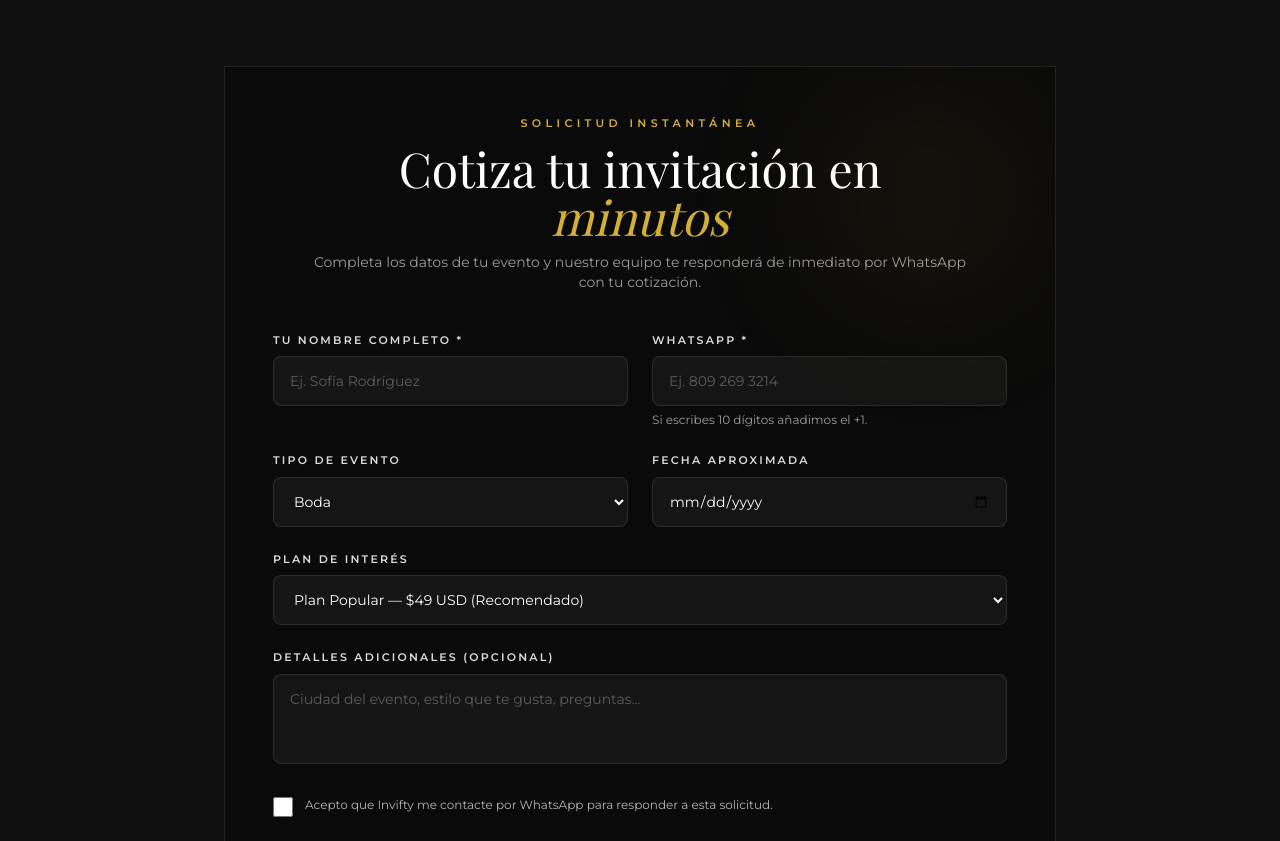
Test: formulario de captación — validación › rechaza un teléfono demasiado corto
In the field labelled "Tu nombre completo *": (450, 381) [273,356,628,406], type "Sofía Rodríguez"
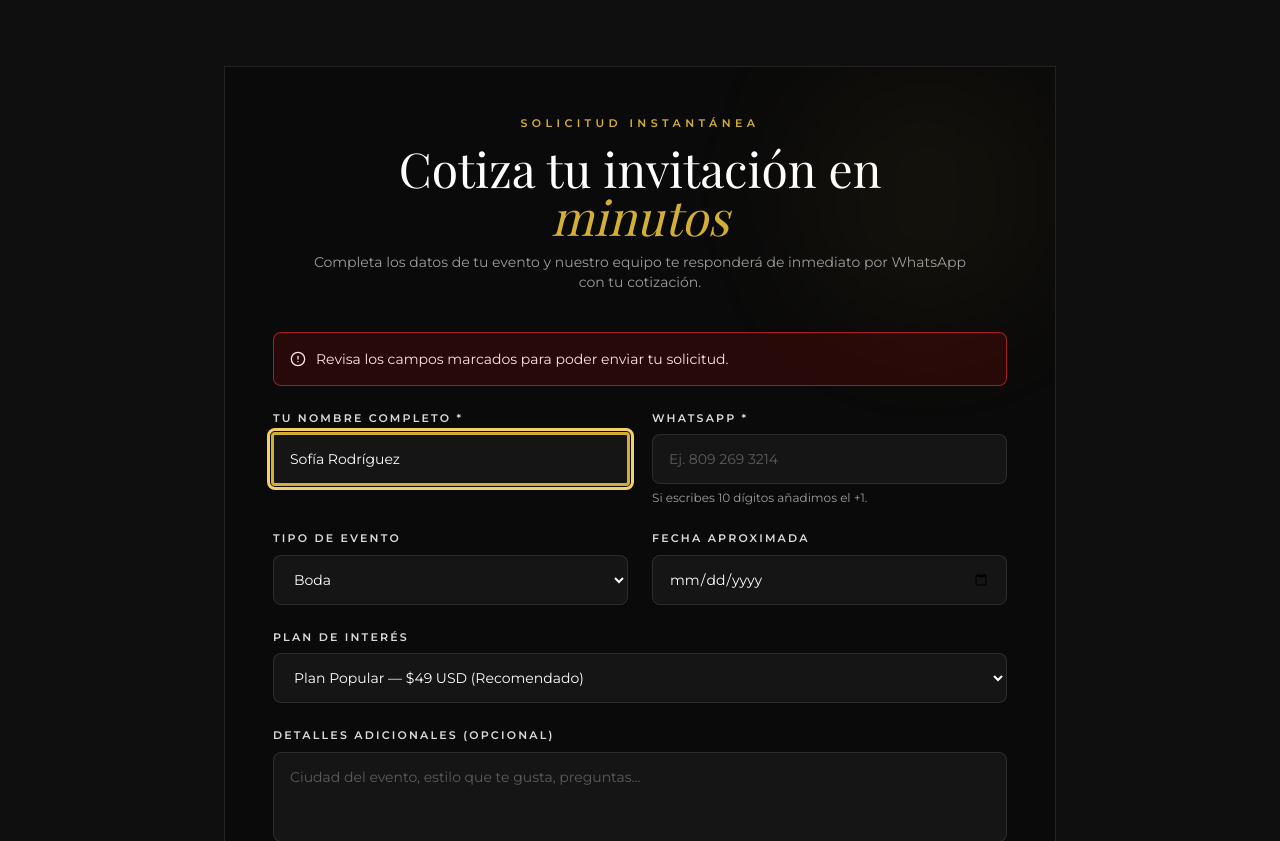
In the field labelled "WhatsApp *": (830, 459) [652,434,1007,484], type "123"
(page scrolled)
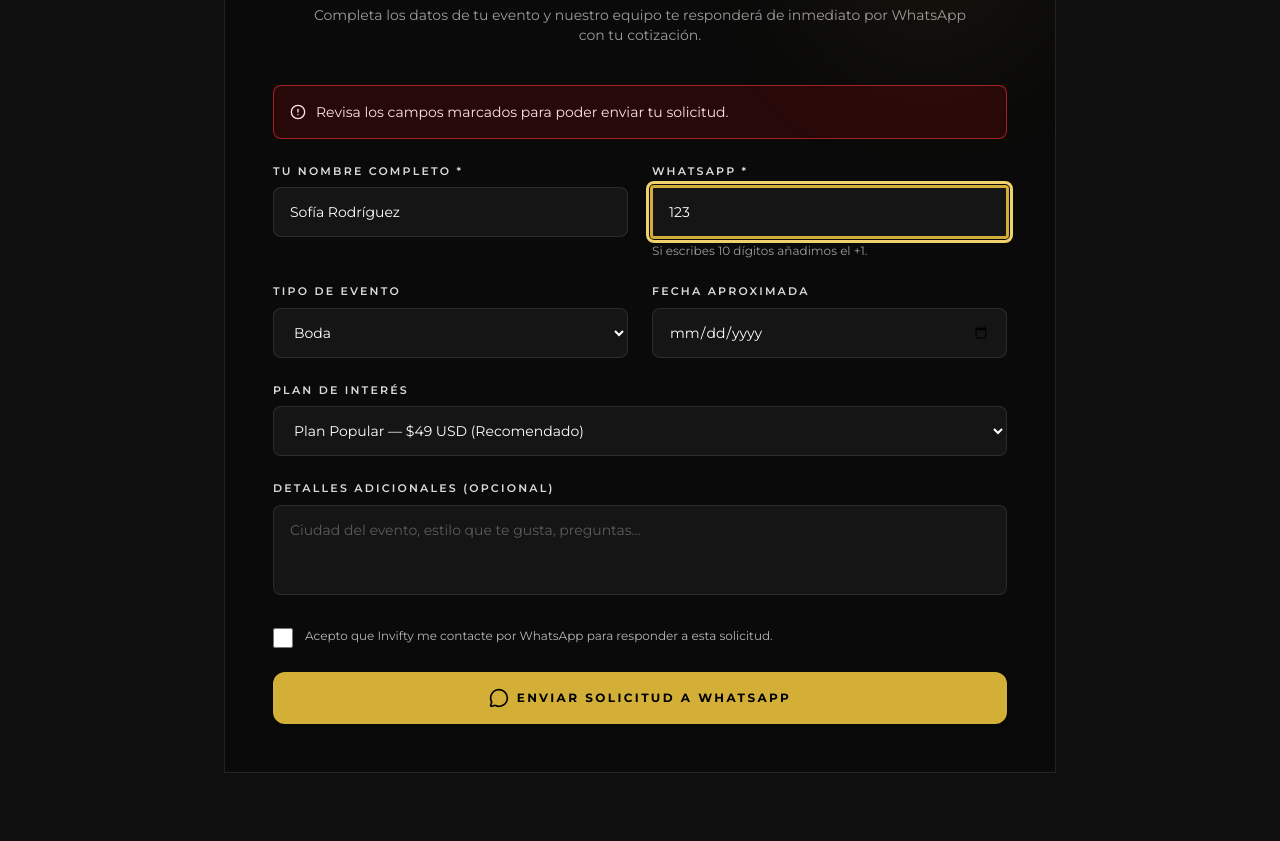
Click the checkbox labelled "Acepto que Invifty me contacte": (283, 638) [273,628,293,648]
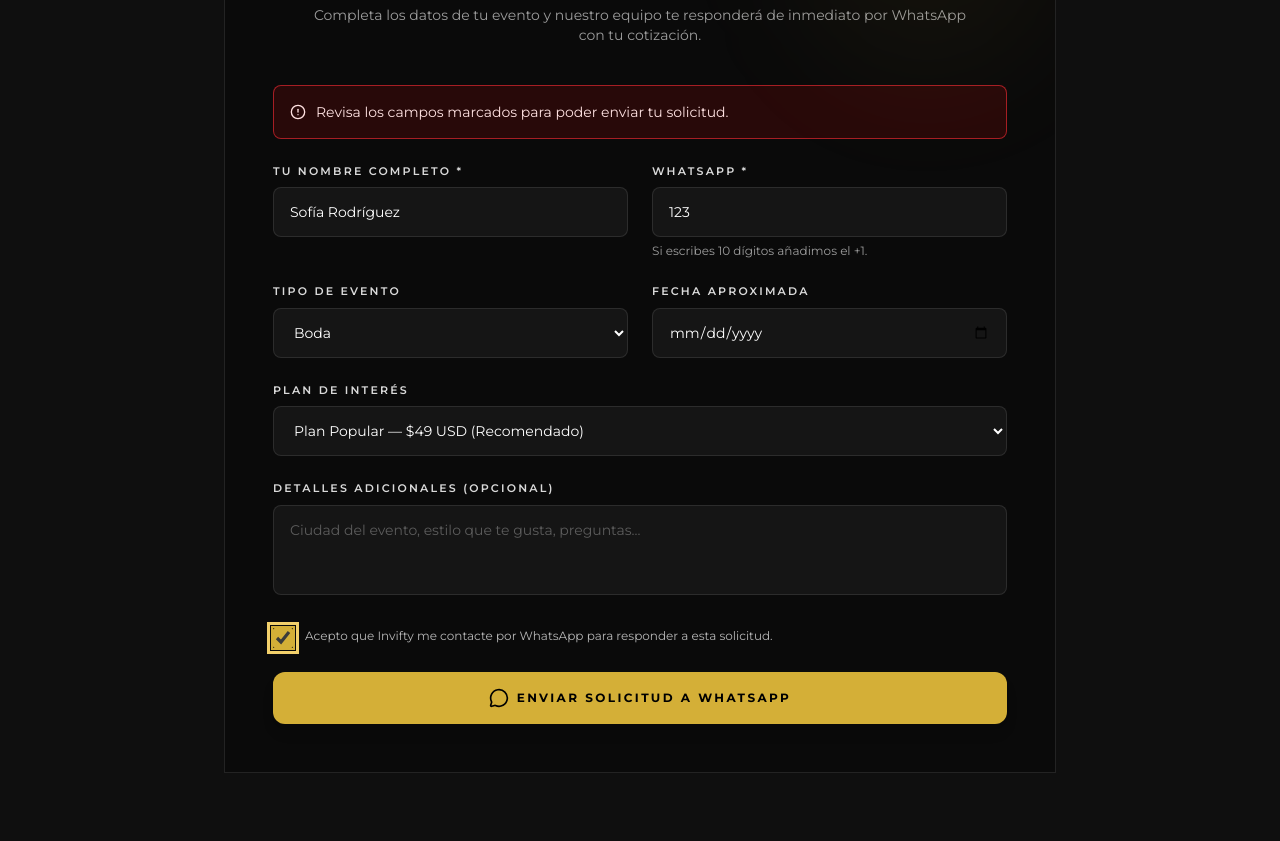
Click the button "Enviar Solicitud a WhatsApp": (640, 698) [273,672,1007,724]
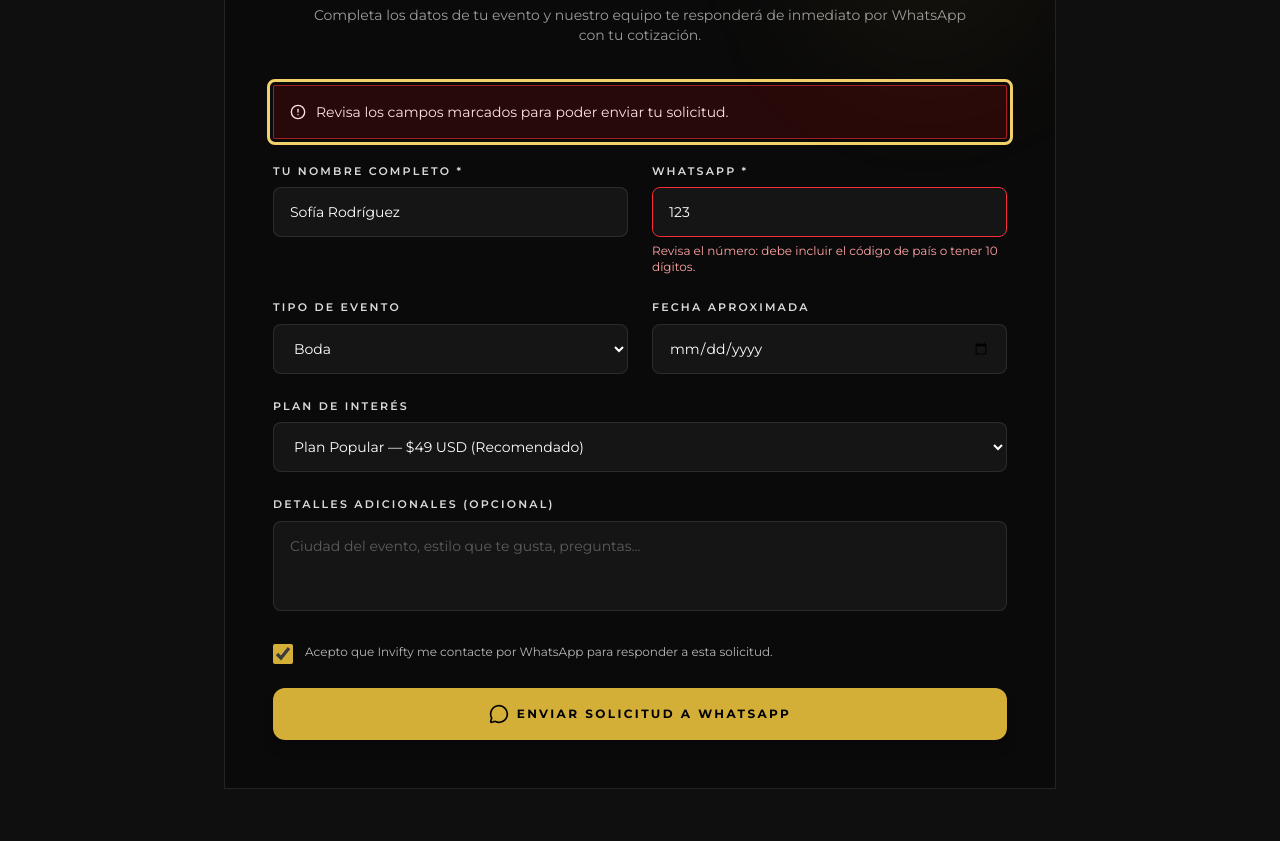
Expected: the text "Revisa el número" is shown, [652,243,998,274]
